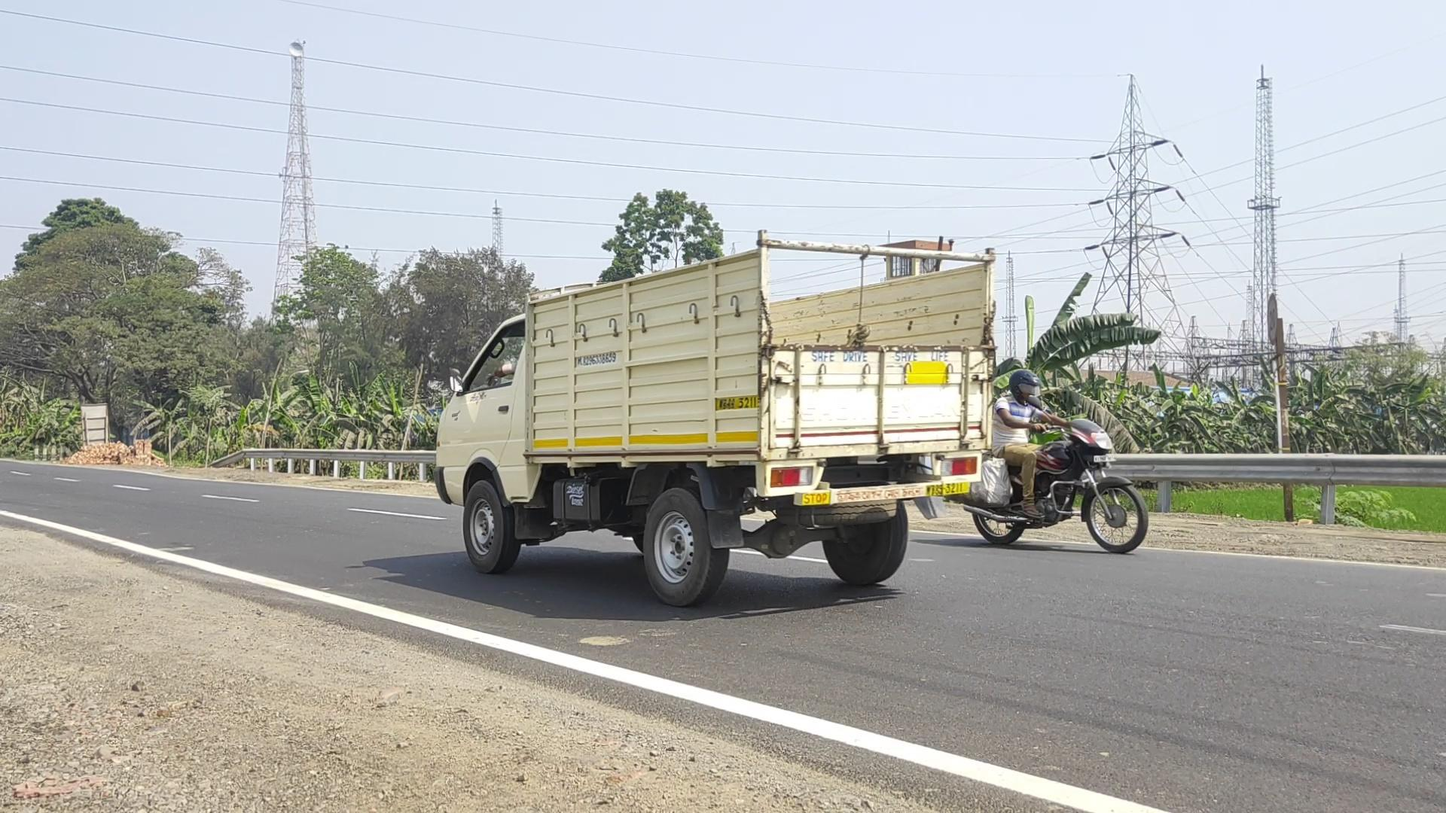bike: (960, 368, 1149, 555)
van: (432, 230, 998, 609)
